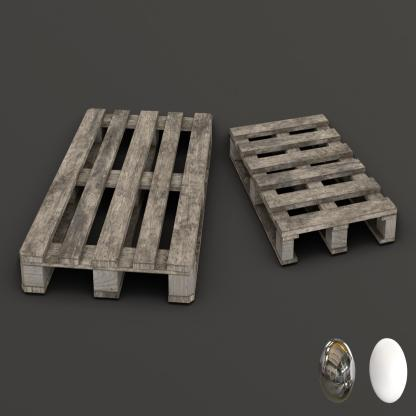BoxFace: (18, 106, 214, 306), (227, 111, 400, 268)
